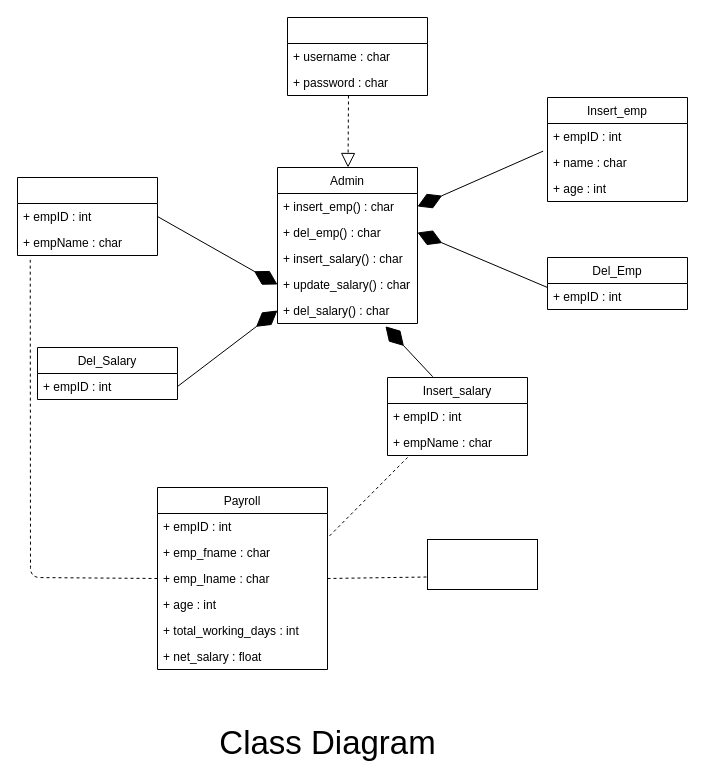
Image size: 705x780. Some labels were removed from this diagram. The box of each missing label's shape, as (x1, y1, x2, y2) in pixels:
Login: (286, 16, 428, 96)
Total Salary: (426, 538, 538, 590)
Update_salary: (16, 176, 158, 256)
